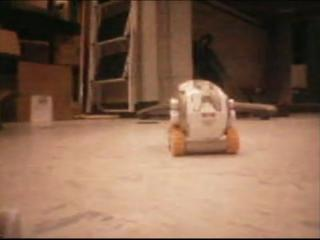cozmo: (163, 77, 241, 158)
